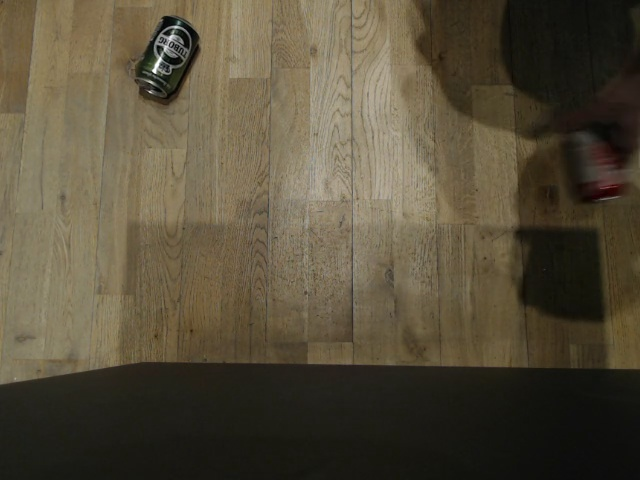beer: (132, 13, 203, 102)
cola: (560, 120, 626, 204)
